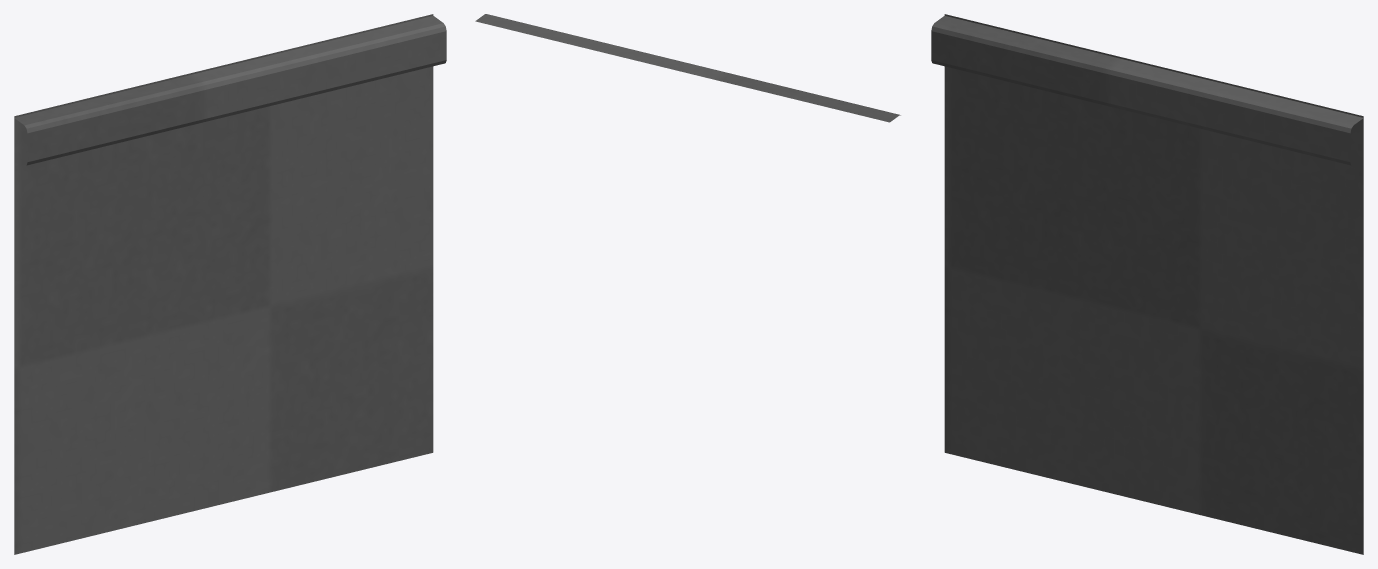
File: SM_House_Base_50CM2.glb
3 renders of one model, left to right at view 1: azimuth 30°, elevation 25°; view 2: azimuth 150°, elevation 25°; view 3: azimuth 330°, elevation 25°, orthographic.
Visible parts, largest first — view 1: SM_House_Base_50CM2; view 2: SM_House_Base_50CM2; view 3: SM_House_Base_50CM2.
Part boxes in pixels (x1,y1,x2,y2): SM_House_Base_50CM2: [14, 14, 446, 554]; SM_House_Base_50CM2: [475, 14, 900, 122]; SM_House_Base_50CM2: [931, 14, 1363, 554].
Size of the model in its own units: 50 by 50 by 2.74.
Materials: 1 (1 with a texture image).
